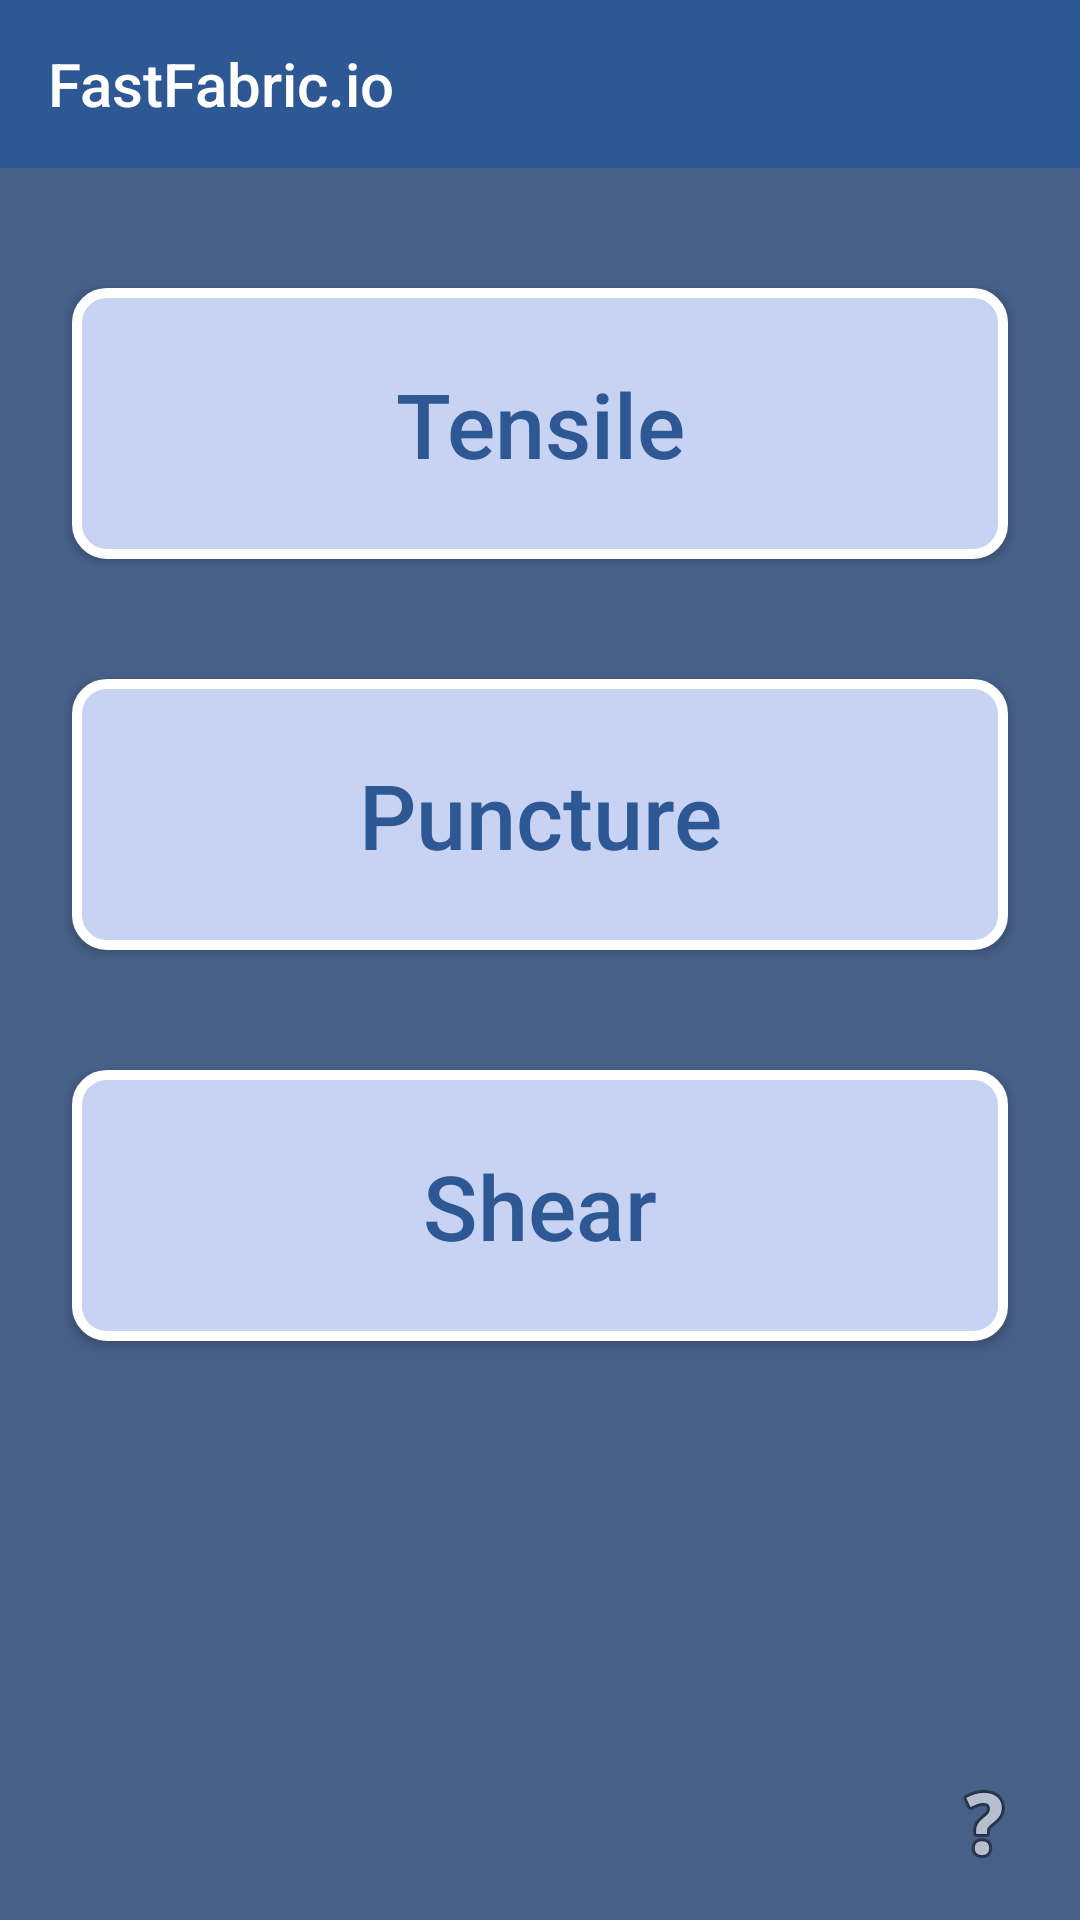

Icons on this 1080*1920 Android screen, each with the point to tap as (x=x, y=y):
help: (x=984, y=1824)
